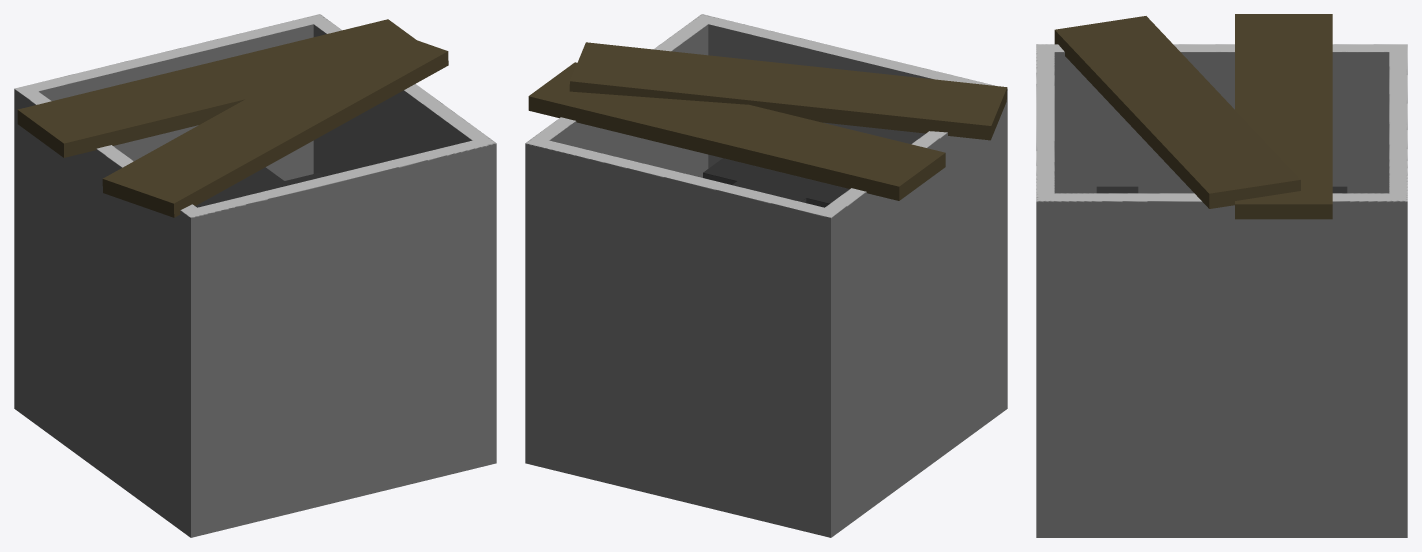
File: floortrap.fbx
The picture shows the model from 3 angles, left to right: view 1: azimuth 30°, elevation 25°; view 2: azimuth 150°, elevation 25°; view 3: azimuth 270°, elevation 25°; orthographic projection. The views are drawn at different scales.
Parts seen in each view (by area): view 1: pisotrampa1; view 2: pisotrampa1; view 3: pisotrampa1.
Boxes of the visible parts, bbox=[...] form: pisotrampa1: bbox=[14, 14, 496, 537]; pisotrampa1: bbox=[525, 14, 1007, 537]; pisotrampa1: bbox=[1036, 14, 1407, 537].
Size of the model in its own units: 1.23 by 1.07 by 1.
